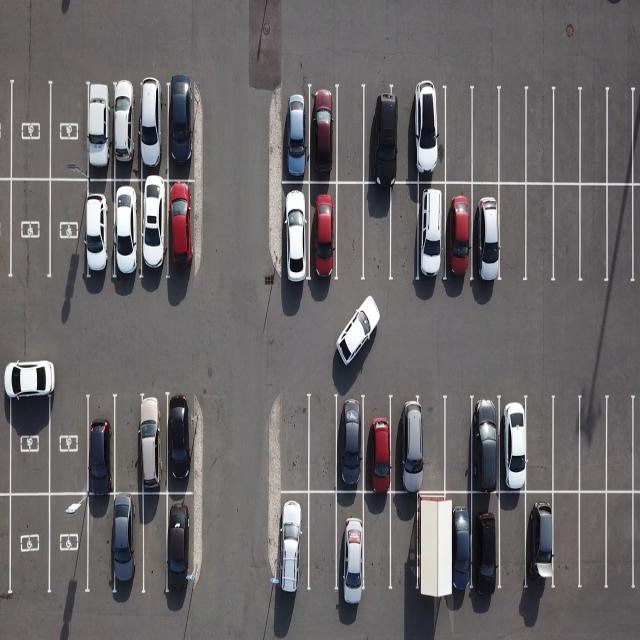space-empty: (48, 386, 92, 495), (6, 492, 48, 596), (7, 178, 48, 284), (48, 178, 88, 284), (8, 77, 49, 180), (307, 492, 344, 601), (112, 395, 151, 494), (50, 81, 88, 180), (493, 491, 528, 597), (414, 492, 449, 597), (548, 492, 584, 594), (359, 494, 393, 597), (573, 492, 608, 592), (605, 492, 639, 594), (576, 182, 609, 286), (82, 495, 116, 595), (526, 182, 559, 283), (309, 396, 343, 494), (574, 397, 608, 495), (607, 183, 639, 287), (550, 395, 584, 492), (606, 394, 639, 493), (277, 395, 310, 494), (336, 84, 369, 182), (494, 184, 526, 285), (387, 494, 419, 594), (336, 184, 367, 286), (139, 492, 170, 594), (390, 184, 422, 282), (525, 398, 558, 493), (551, 183, 582, 284), (441, 397, 473, 494), (526, 88, 558, 184), (576, 88, 608, 184), (360, 181, 391, 279), (551, 90, 583, 184), (471, 88, 502, 184), (441, 92, 472, 186), (608, 90, 638, 187), (496, 90, 526, 185), (417, 397, 447, 492), (394, 86, 421, 182)
space-occupied: (6, 378, 50, 495), (48, 495, 92, 598), (274, 490, 312, 600), (467, 492, 503, 598), (361, 84, 399, 182), (440, 494, 474, 603), (166, 397, 203, 497), (334, 488, 368, 596), (524, 488, 560, 590), (111, 495, 147, 597), (167, 180, 203, 282), (167, 494, 202, 596), (392, 398, 428, 496), (83, 396, 117, 498), (80, 178, 113, 282), (361, 398, 396, 496), (494, 399, 530, 494), (112, 176, 145, 279), (469, 397, 504, 492), (137, 395, 170, 494), (416, 182, 448, 284), (334, 398, 368, 494), (442, 182, 474, 284), (138, 178, 169, 282), (414, 88, 447, 185), (309, 85, 341, 185), (310, 181, 341, 284), (472, 182, 503, 284), (283, 184, 311, 288), (137, 82, 166, 182), (168, 83, 197, 181), (85, 82, 113, 180), (284, 86, 311, 185), (114, 83, 141, 180)
